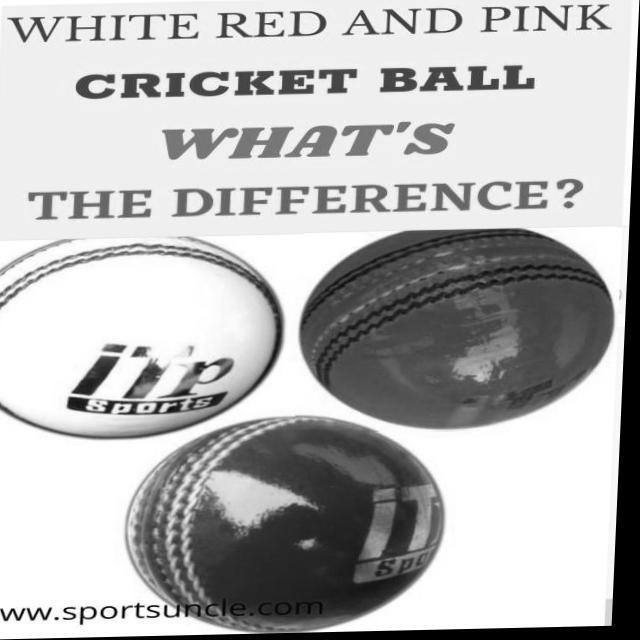cricket ball: (130, 419, 450, 634), (302, 231, 617, 433), (0, 237, 291, 441)
